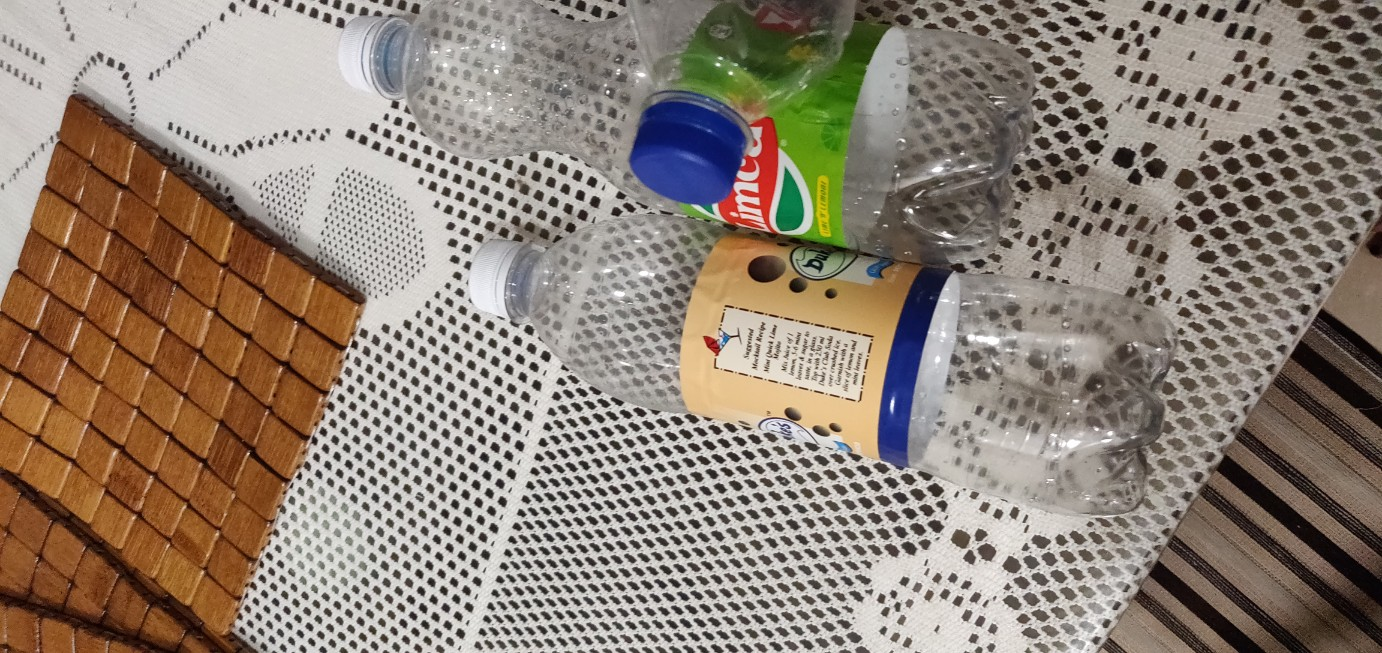Electronics: (434, 197, 1213, 549), (322, 1, 1055, 277)
